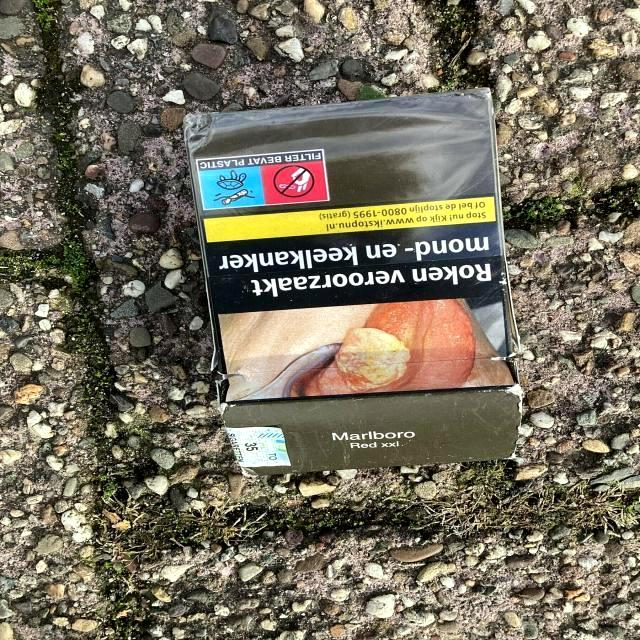Paper: (174, 82, 532, 480)
